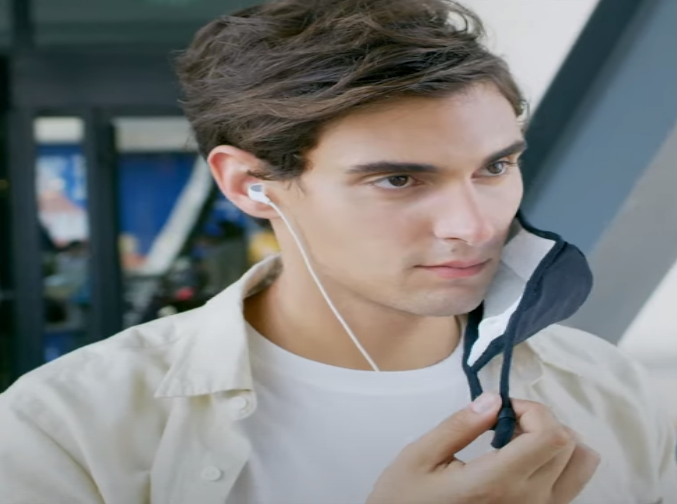mask_weared_incorrect: (187, 2, 596, 377)
